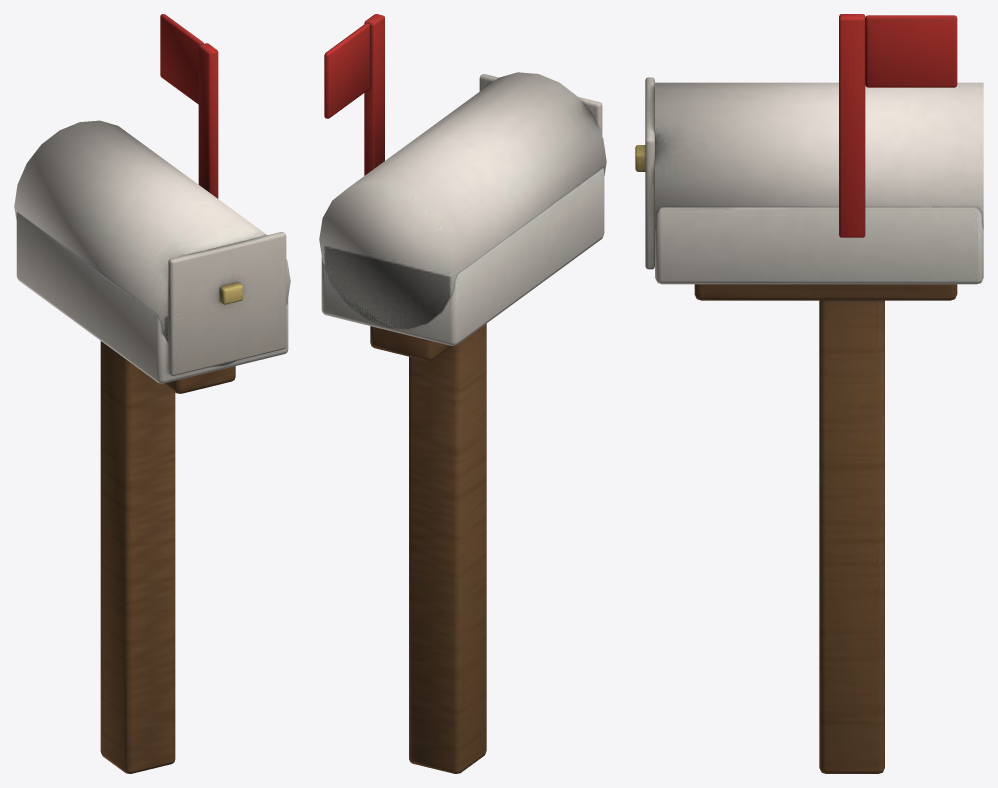
File: mailbox_white.glb
3 renders of one model, left to right at view 1: azimuth 30°, elevation 25°; view 2: azimuth 150°, elevation 25°; view 3: azimuth 270°, elevation 25°, orthographic. The views are drawn at different scales.
Visible parts, largest first — view 1: mailbox_white, mailbox_white_flag; view 2: mailbox_white, mailbox_white_flag; view 3: mailbox_white, mailbox_white_flag.
Boxes of the visible parts, box(x1,y1,x2,y2) form: mailbox_white: box(14, 120, 290, 773); mailbox_white_flag: box(160, 14, 218, 198); mailbox_white: box(319, 72, 606, 773); mailbox_white_flag: box(324, 14, 384, 175); mailbox_white: box(635, 77, 983, 773); mailbox_white_flag: box(839, 14, 957, 237).
Bounding box in the file's own units: 0.28 × 1.32 × 0.53.
Materials: 5 (5 with a texture image).
